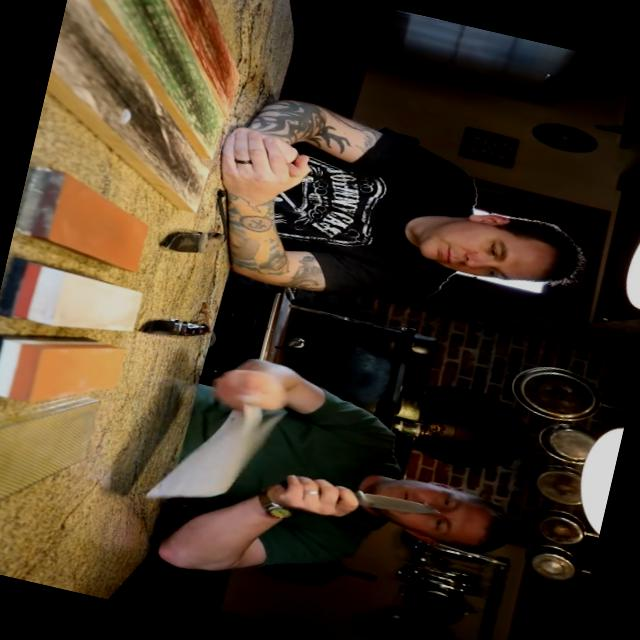knife: (283, 469, 459, 546)
